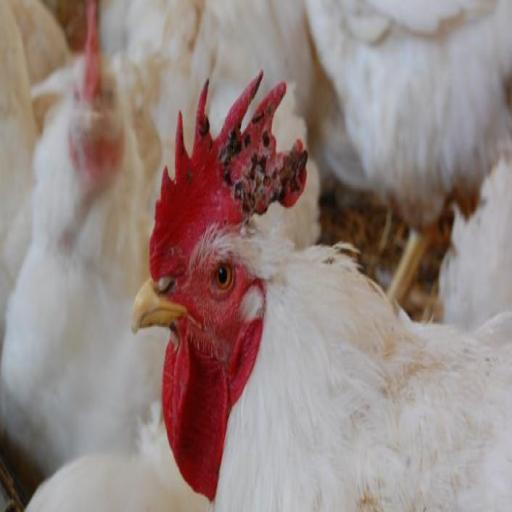disease: (218, 106, 315, 220), (171, 109, 214, 198)
